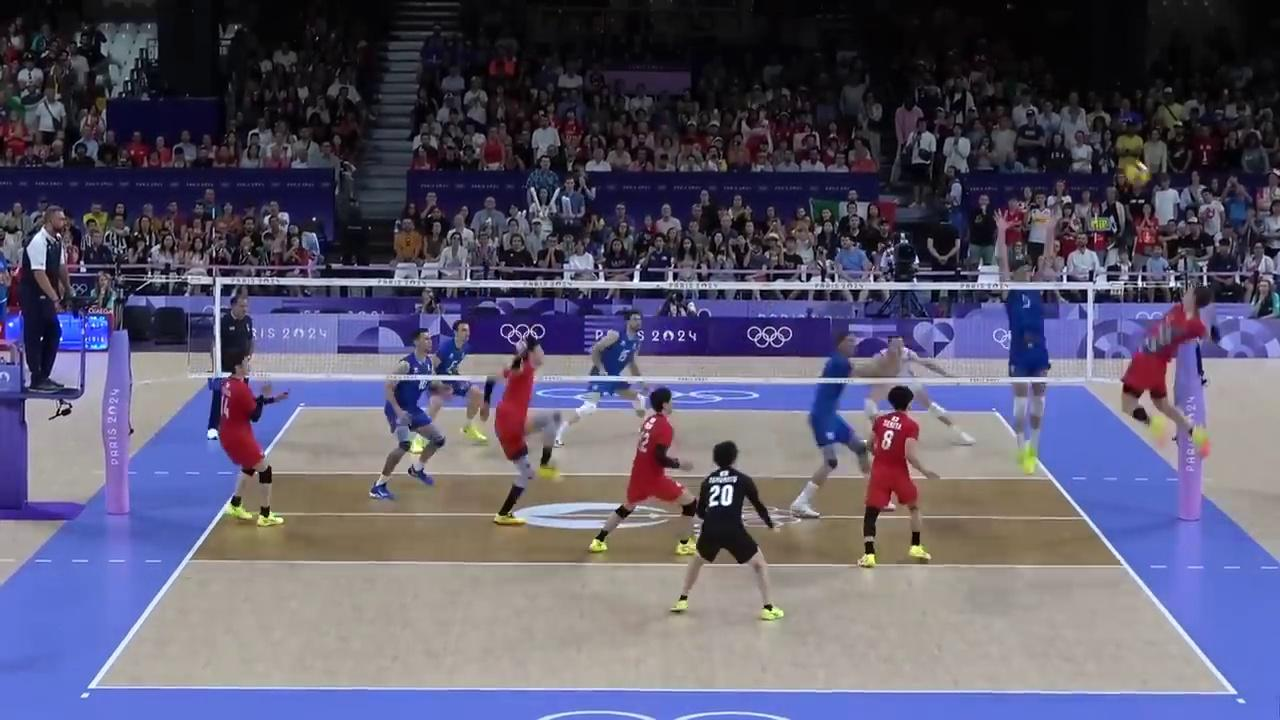ball: (1128, 163, 1148, 184)
